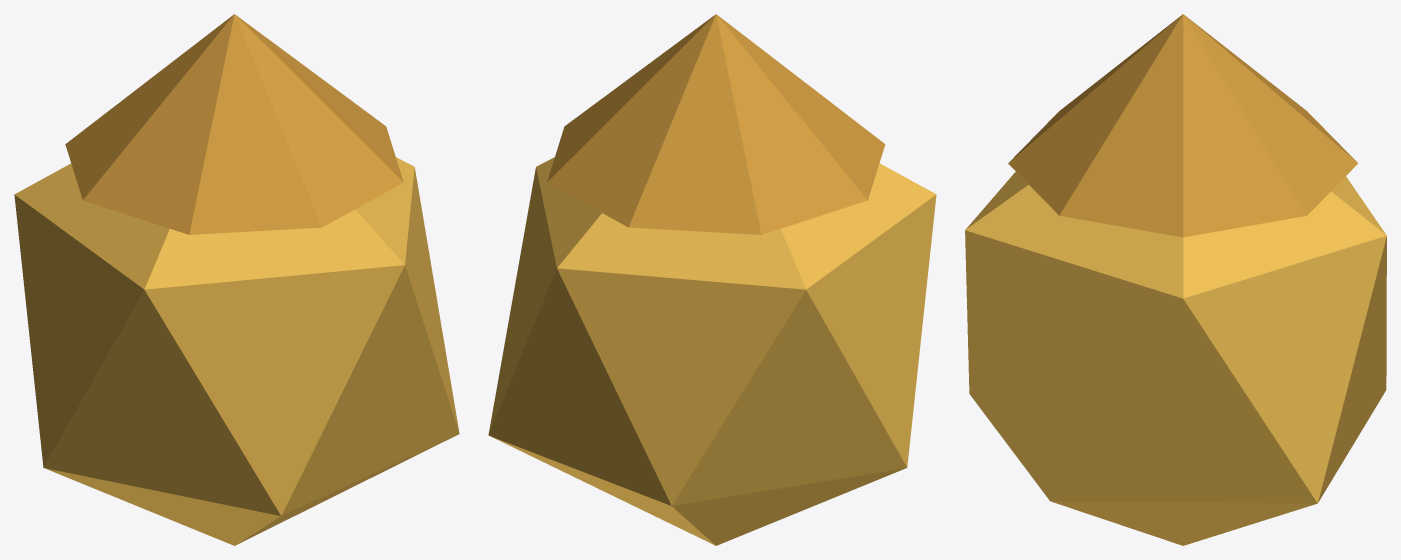
File: ns-haystack.glb
3 views of the same model, side by side, from view 1: azimuth 30°, elevation 25°; view 2: azimuth 150°, elevation 25°; view 3: azimuth 270°, elevation 25° (orthographic).
Parts seen in each view (by area): view 1: Icosphere; view 2: Icosphere; view 3: Icosphere.
Part boxes in pixels (left/top/right/bottom): Icosphere: left=14, top=14, right=459, bottom=545; Icosphere: left=488, top=14, right=936, bottom=545; Icosphere: left=965, top=14, right=1386, bottom=545.
Bounding box in the file's own units: 0.208 × 0.2848 × 0.2047.
